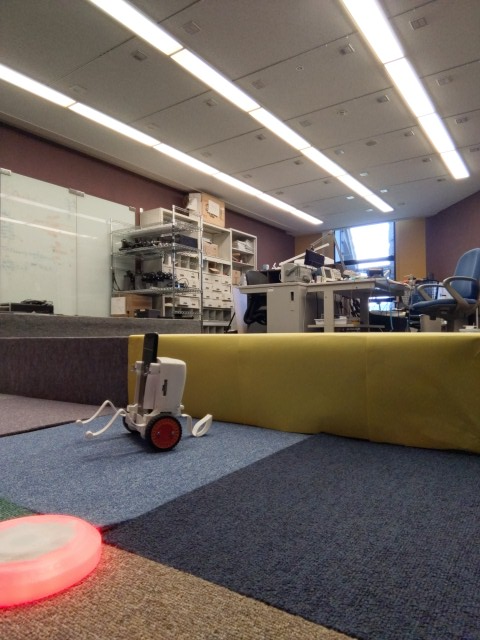bl: (76, 332, 218, 455)
r: (1, 513, 102, 610)
